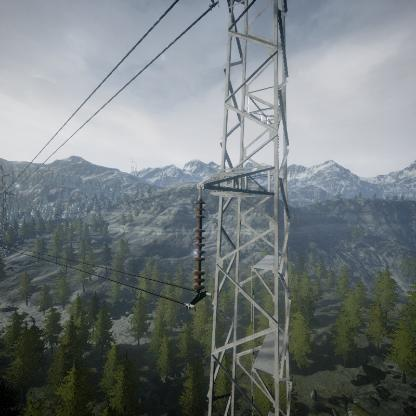insulator: (190, 198, 209, 294)
